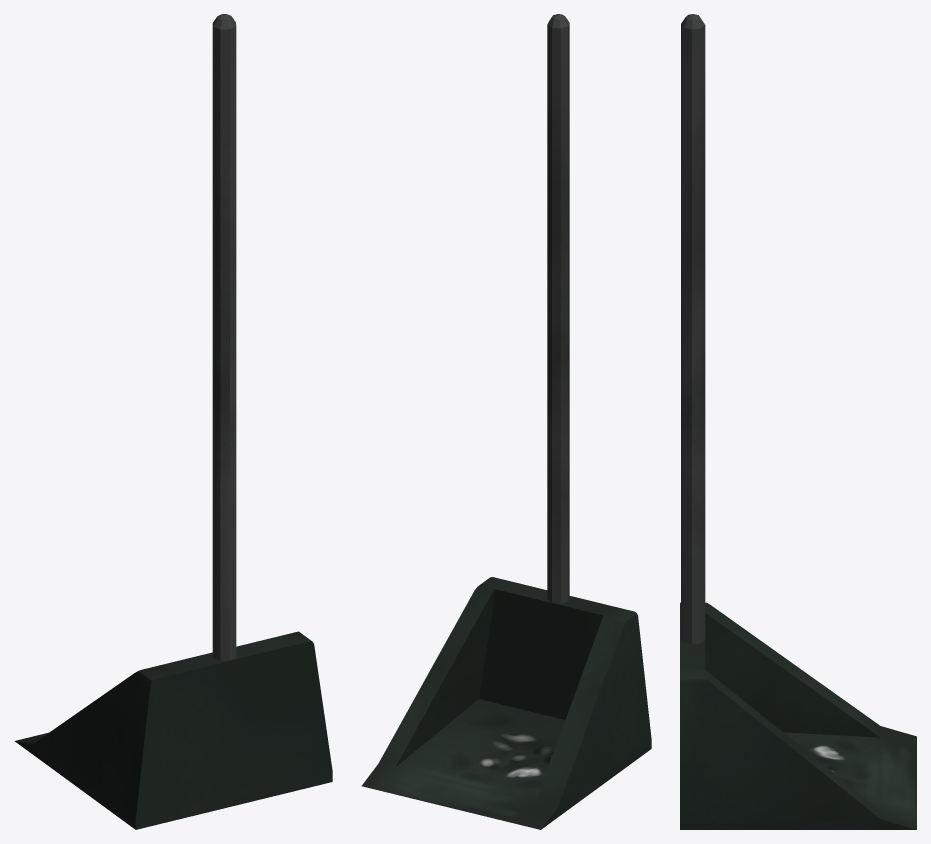
File: recogedor.fbx
The picture shows the model from 3 angles, left to right: view 1: azimuth 30°, elevation 25°; view 2: azimuth 150°, elevation 25°; view 3: azimuth 270°, elevation 25°; orthographic projection. The views are drawn at different scales.
Visible parts, largest first — view 1: Box002; view 2: Box002; view 3: Box002.
Part boxes in pixels (x1=…): Box002: x1=14, y1=14, x2=332, y2=829; Box002: x1=361, y1=14, x2=651, y2=829; Box002: x1=680, y1=14, x2=916, y2=829.
Size of the model in its own units: 10.71 by 40.91 by 11.45.
